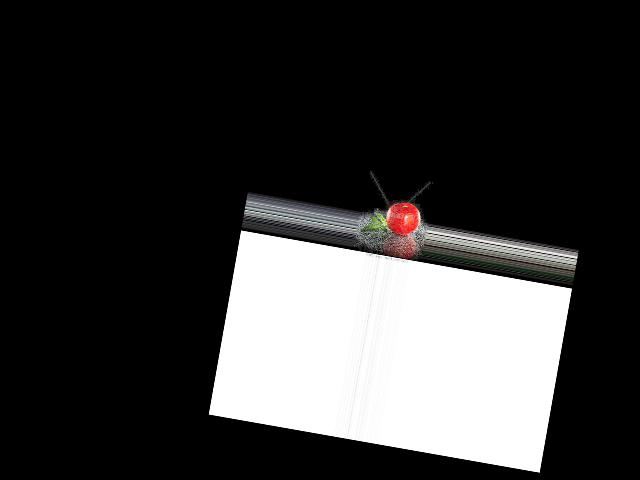tomato: (383, 199, 422, 236)
